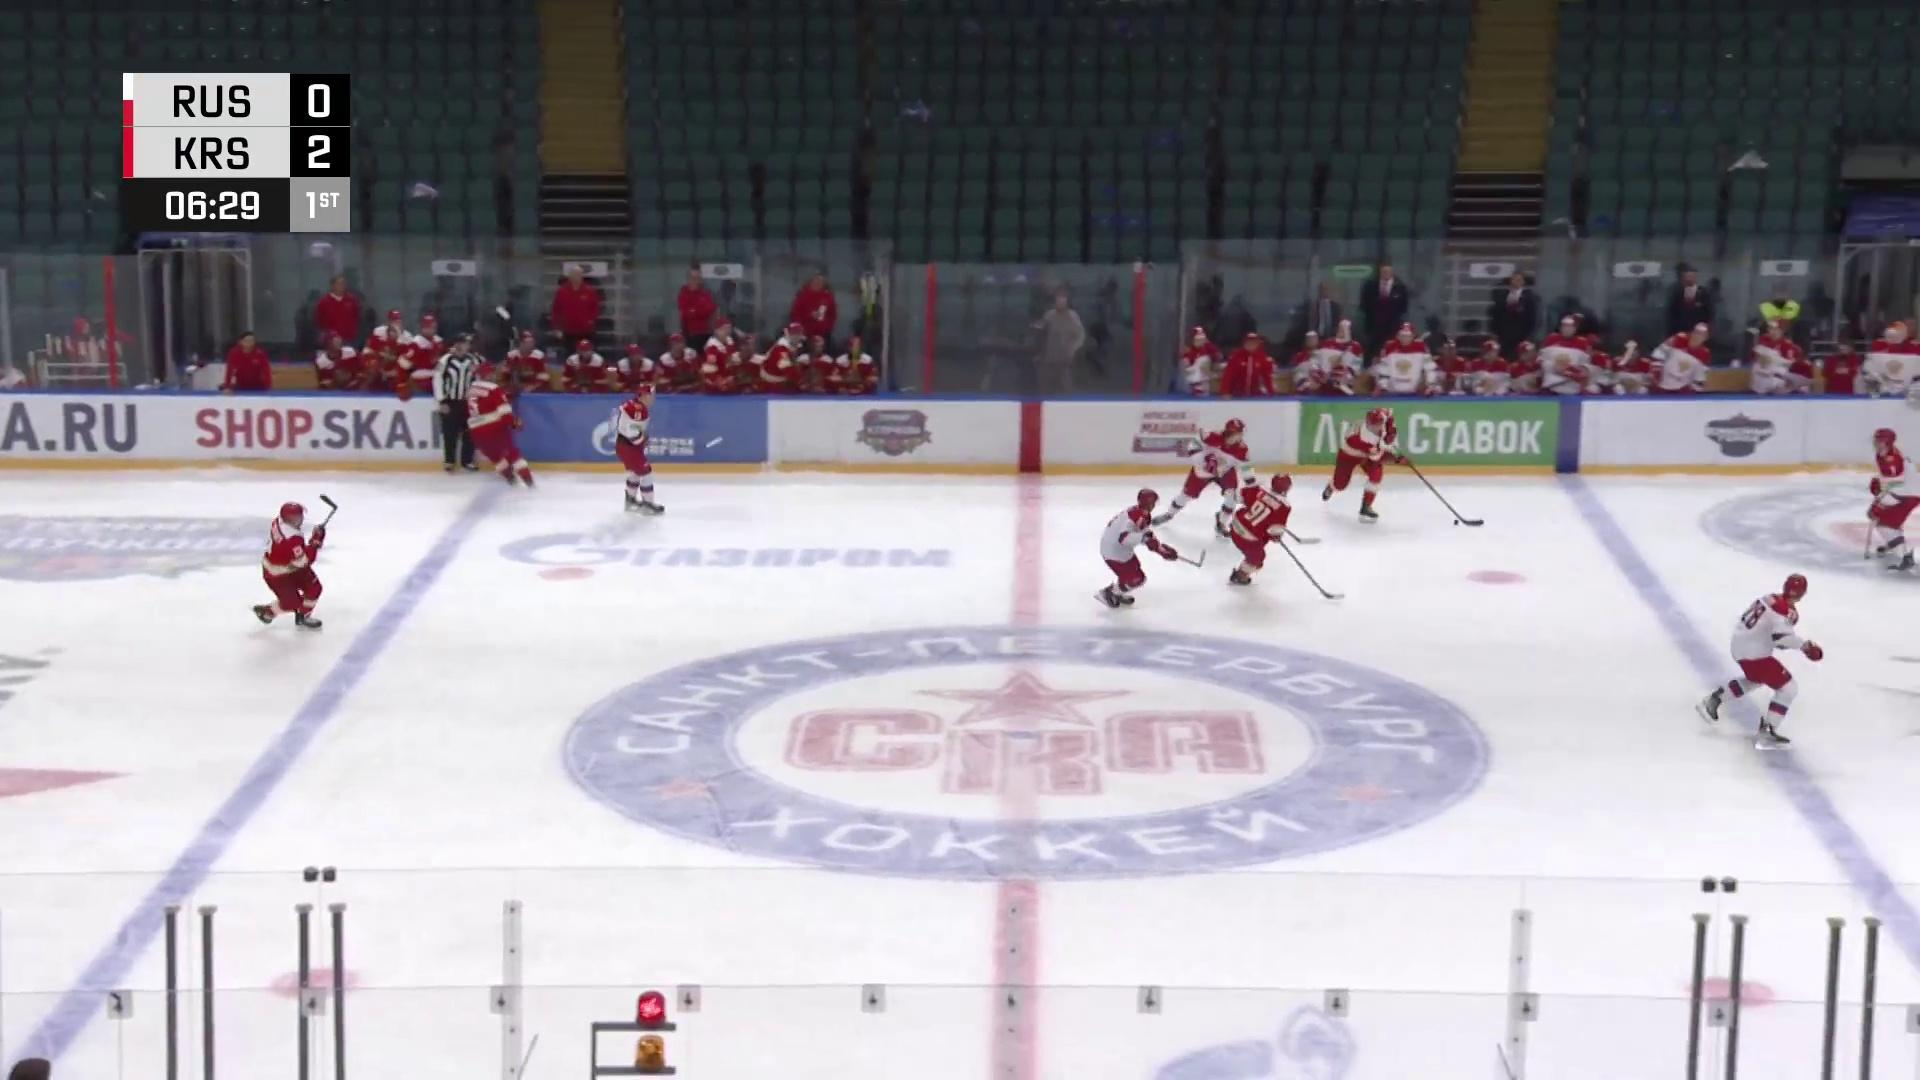ball: (1451, 518, 1461, 527)
